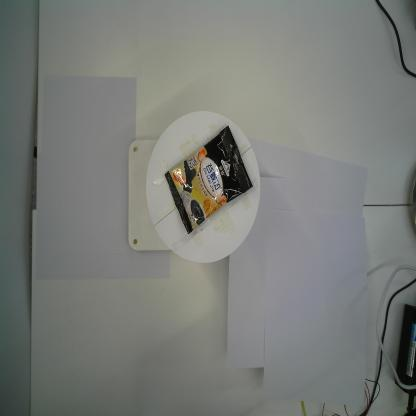Instant Drink: (164, 124, 254, 235)
